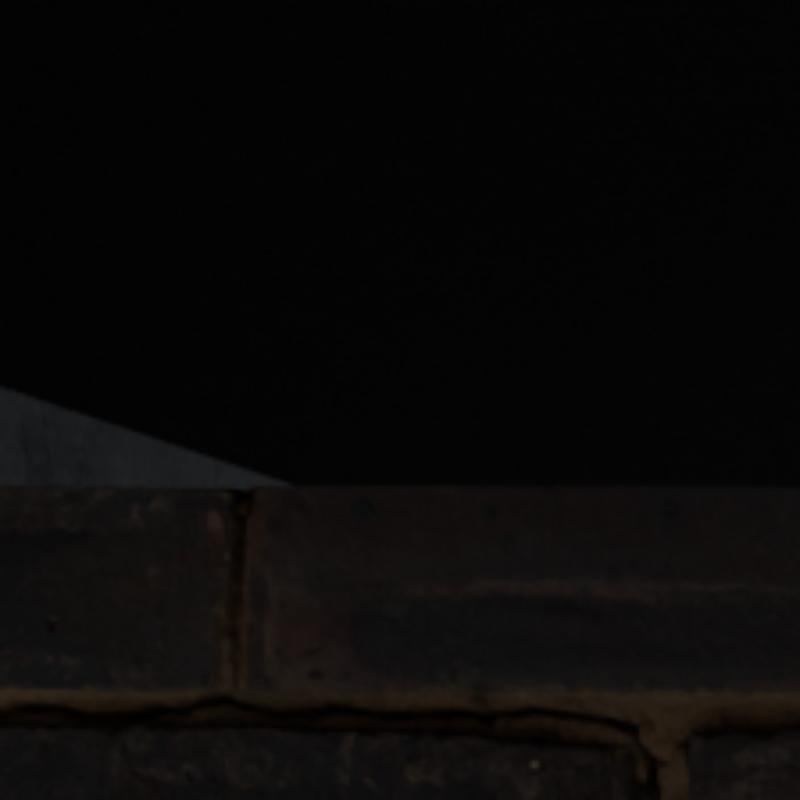crack: (0, 693, 657, 796)
